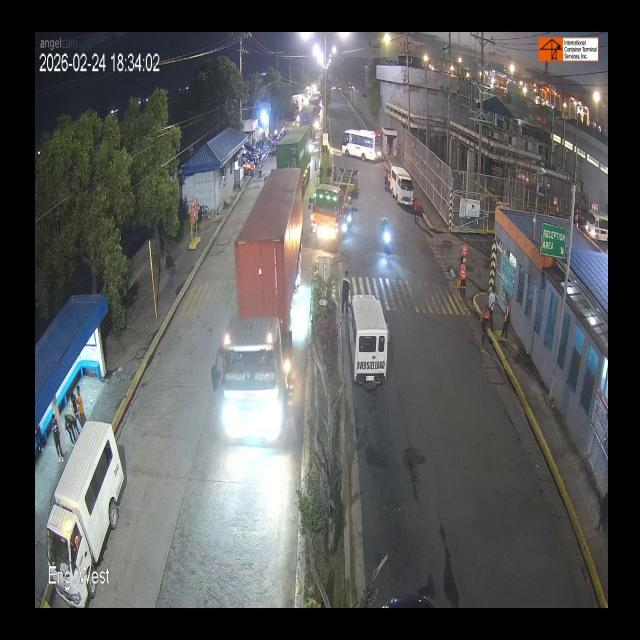bus: (337, 123, 385, 168)
car: (54, 412, 117, 558), (348, 288, 404, 393), (391, 167, 413, 211)
truck: (222, 171, 306, 447), (314, 151, 362, 252), (272, 122, 318, 198)
